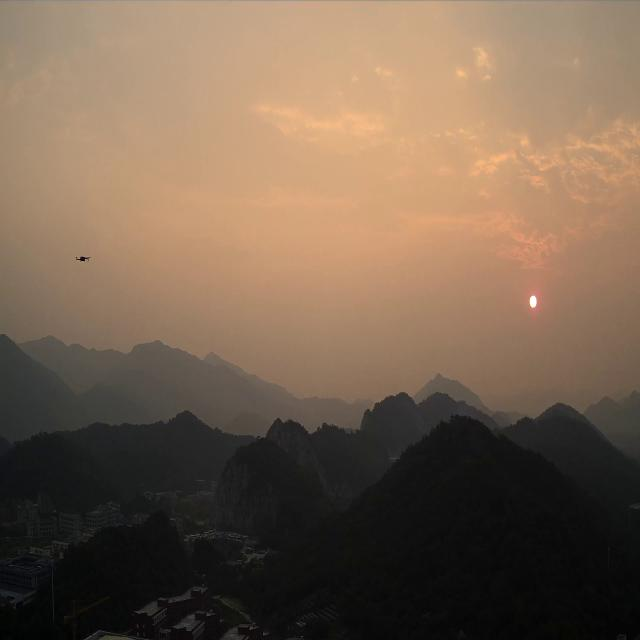UAV: (74, 254, 92, 264)
